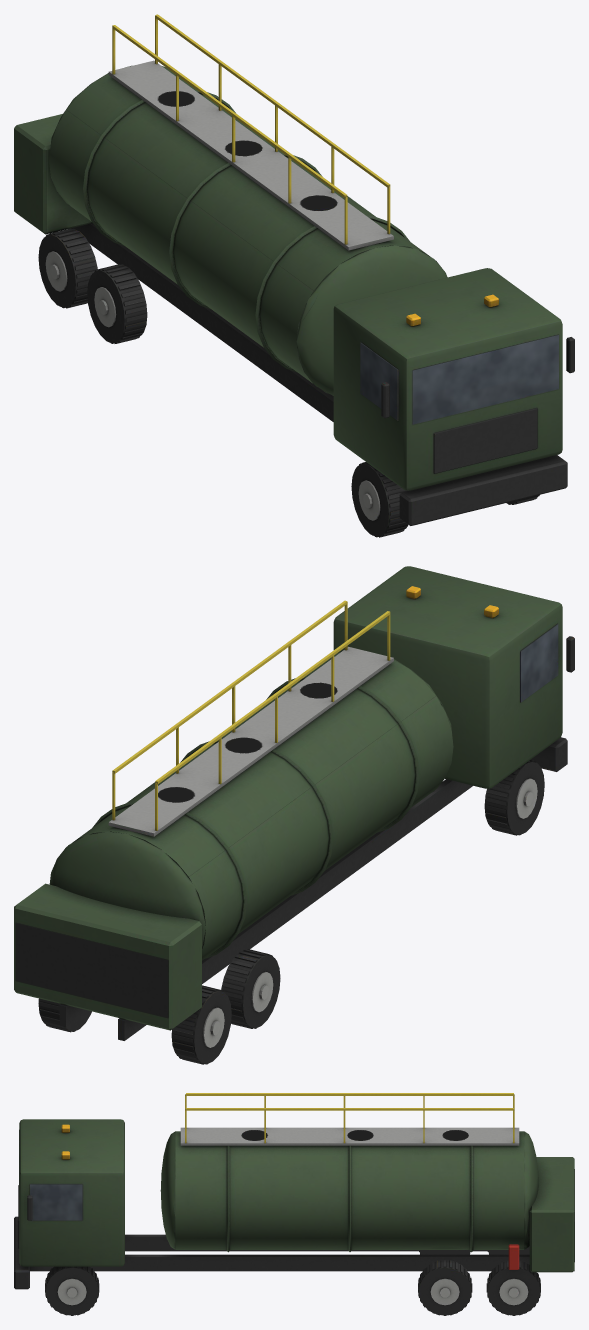
File: fuel_bowser.glb
The picture shows the model from 3 angles, top to bottom: view 1: azimuth 30°, elevation 25°; view 2: azimuth 150°, elevation 25°; view 3: azimuth 270°, elevation 25°; orthographic projection. The views are drawn at different scales.
Parts seen in each view (by area): view 1: fuel_bowser; view 2: fuel_bowser; view 3: fuel_bowser.
Part boxes in pixels (x1,y1,x2,y2): fuel_bowser: (14,14,574,537); fuel_bowser: (14,566,574,1064); fuel_bowser: (14,1093,574,1315).
Bounding box in the file's own units: 2.95 × 3.93 × 10.6.
1 material, 1 textured.
